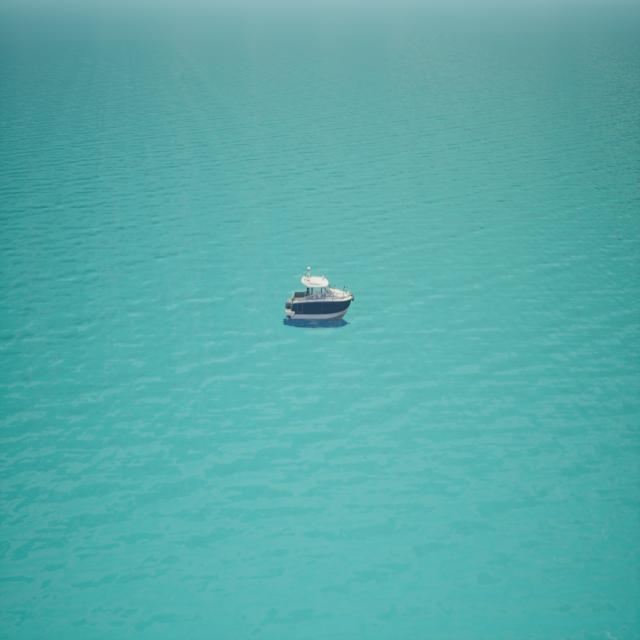ship: (283, 265, 356, 326)
